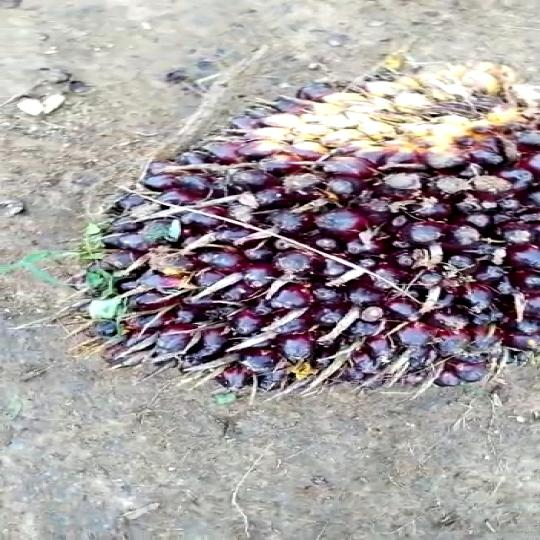mentah: (94, 63, 540, 397)
